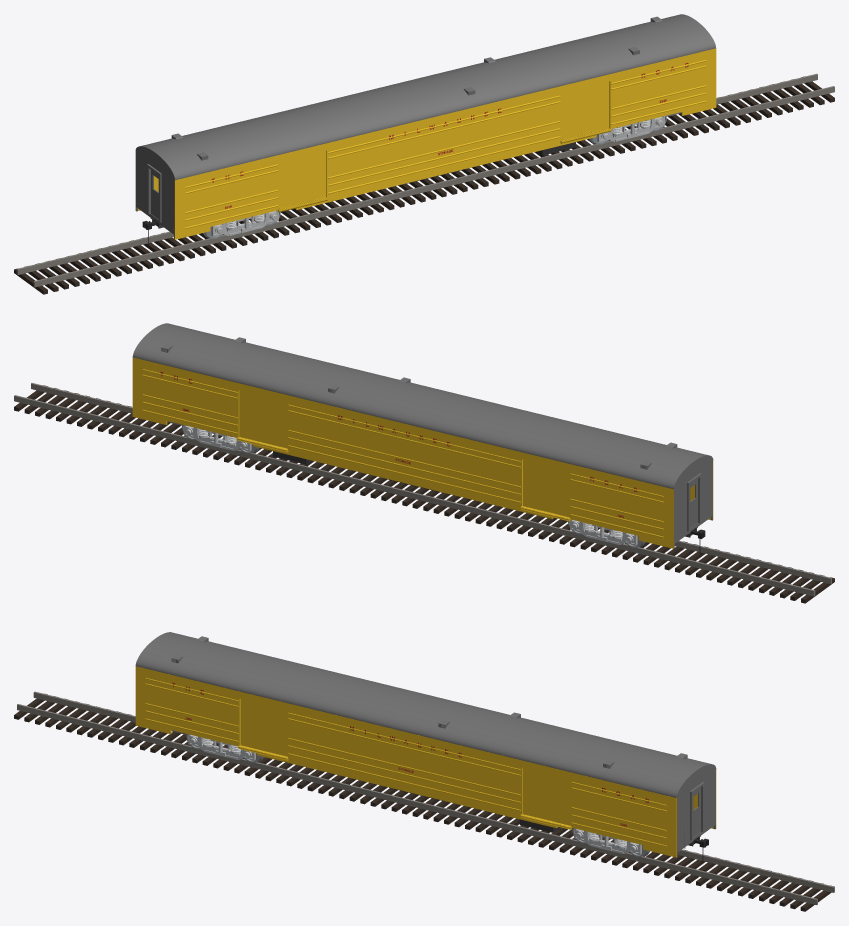
Rendered from MRCE_Storage1946_G.glb.
3 renders of one model, top to bottom at view 1: azimuth 30°, elevation 25°; view 2: azimuth 150°, elevation 25°; view 3: azimuth 330°, elevation 25°, orthographic.
Parts seen in each view (by area): view 1: orange, roof, ties, rails, ends, trucks; view 2: orange, roof, ties, rails, ends, trucks; view 3: orange, roof, ties, rails, ends, trucks.
Boxes of the visible parts, x1,y1,x2,y2 form: orange: (138,48,716,239); roof: (135,14,715,180); ties: (14,76,834,294); rails: (16,73,834,287); ends: (135,152,174,239); trucks: (211,116,664,236); orange: (132,357,713,548); roof: (132,323,713,489); ties: (14,385,834,603); rails: (14,383,831,596); ends: (674,461,712,548); trucks: (184,425,637,545); orange: (135,666,716,857); roof: (135,632,716,797); ties: (14,693,834,911); rails: (17,691,834,904); ends: (677,769,715,856); trucks: (188,734,641,854).
Bounding box in the file's own units: 1.24 × 0.1479 × 0.111.
